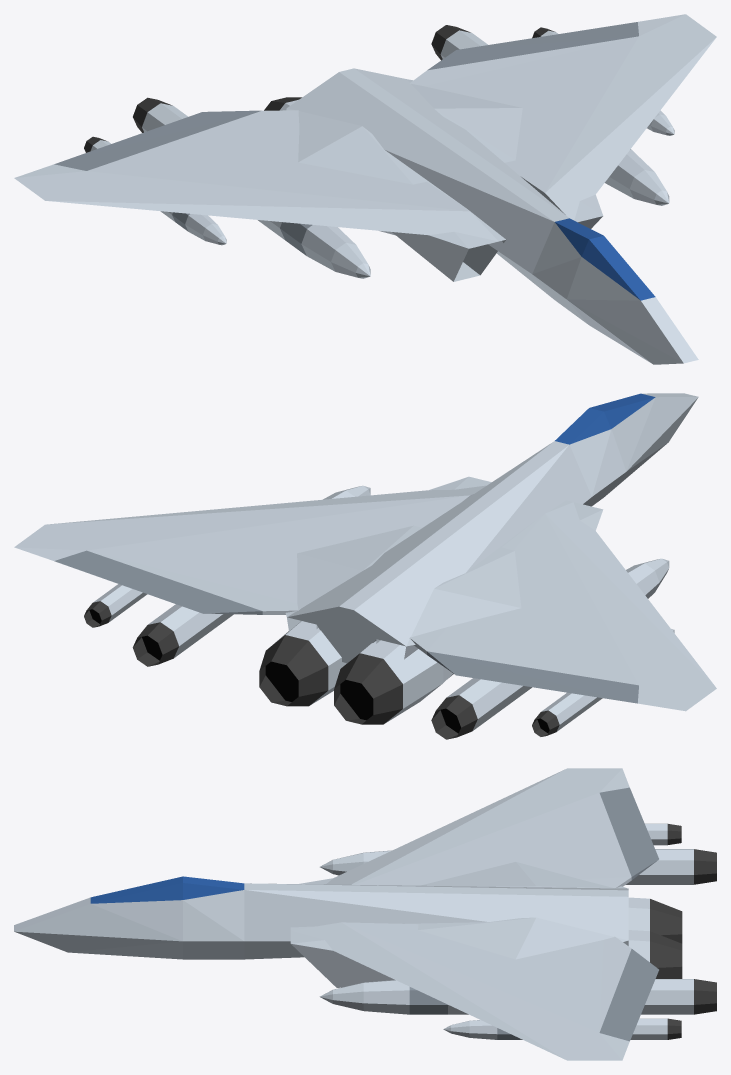
The picture shows the model from 3 angles, top to bottom: view 1: azimuth 30°, elevation 25°; view 2: azimuth 150°, elevation 25°; view 3: azimuth 270°, elevation 25°; orthographic projection. The views are drawn at different scales.
Visible parts, largest first — view 1: VIFS001, VIFS011, VIFS013, VIFS019, VIFS012, VIFS014, VIFS015, VIFS002, VIFS023, VIFS020; view 2: VIFS001, VIFS011, VIFS013, VIFS012, VIFS014, VIFS009, VIFS005, VIFS019, VIFS004, VIFS015, VIFS002, VIFS008 (+6 smaller); view 3: VIFS001, VIFS013, VIFS011, VIFS015, VIFS014, VIFS012, VIFS019, VIFS002, VIFS027, VIFS009, VIFS005, VIFS016 (+4 smaller).
Part boxes in pixels (box(x1,y1,x2,y2)): VIFS001: box(286, 68, 698, 364); VIFS011: box(14, 110, 498, 241); VIFS013: box(410, 14, 716, 220); VIFS019: box(142, 103, 370, 278); VIFS012: box(54, 110, 261, 170); VIFS014: box(427, 22, 638, 70); VIFS015: box(440, 30, 669, 205); VIFS002: box(555, 218, 655, 300); VIFS023: box(90, 140, 226, 245); VIFS020: box(280, 222, 312, 255); VIFS001: box(285, 393, 698, 662); VIFS011: box(410, 502, 716, 711); VIFS013: box(14, 485, 486, 614); VIFS012: box(427, 651, 638, 703); VIFS014: box(54, 550, 262, 614); VIFS009: box(259, 635, 328, 706); VIFS005: box(334, 653, 402, 724); VIFS019: box(447, 558, 669, 730); VIFS004: box(344, 640, 453, 723); VIFS015: box(148, 485, 370, 657); VIFS002: box(555, 393, 655, 444); VIFS008: box(268, 621, 346, 705); VIFS001: box(14, 862, 628, 987); VIFS013: box(291, 922, 631, 1060); VIFS011: box(326, 768, 631, 888); VIFS015: box(319, 979, 693, 1014); VIFS014: box(599, 949, 658, 1041); VIFS012: box(599, 787, 658, 879); VIFS019: box(320, 849, 693, 884); VIFS002: box(90, 876, 244, 903); VIFS027: box(443, 1018, 667, 1039); VIFS009: box(650, 931, 682, 978); VIFS005: box(650, 899, 682, 943); VIFS016: box(409, 987, 447, 1014).
Bounding box in the file's own units: 503 × 82.36 × 512.
